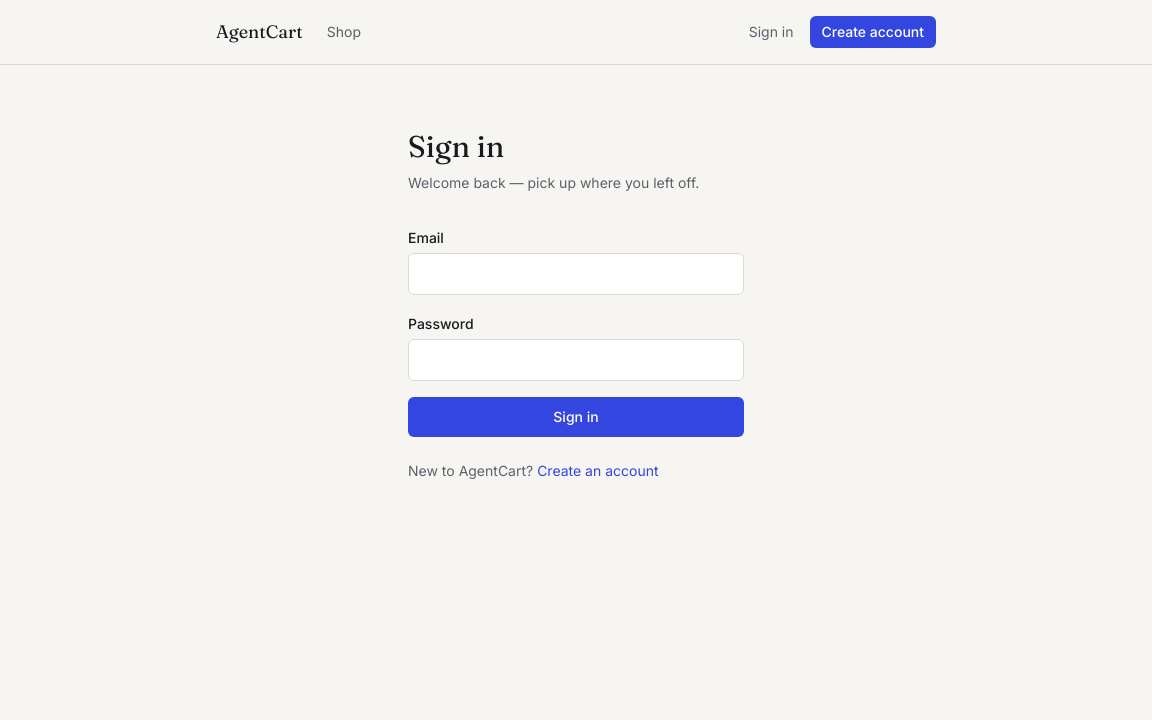
Test: login form › shows the server's error for wrong credentials and stays signed out
This screenshot has width=1152, height=720.
In the field labelled "Email": (576, 274) 408,253 -> 744,295, type "casey@example.com"
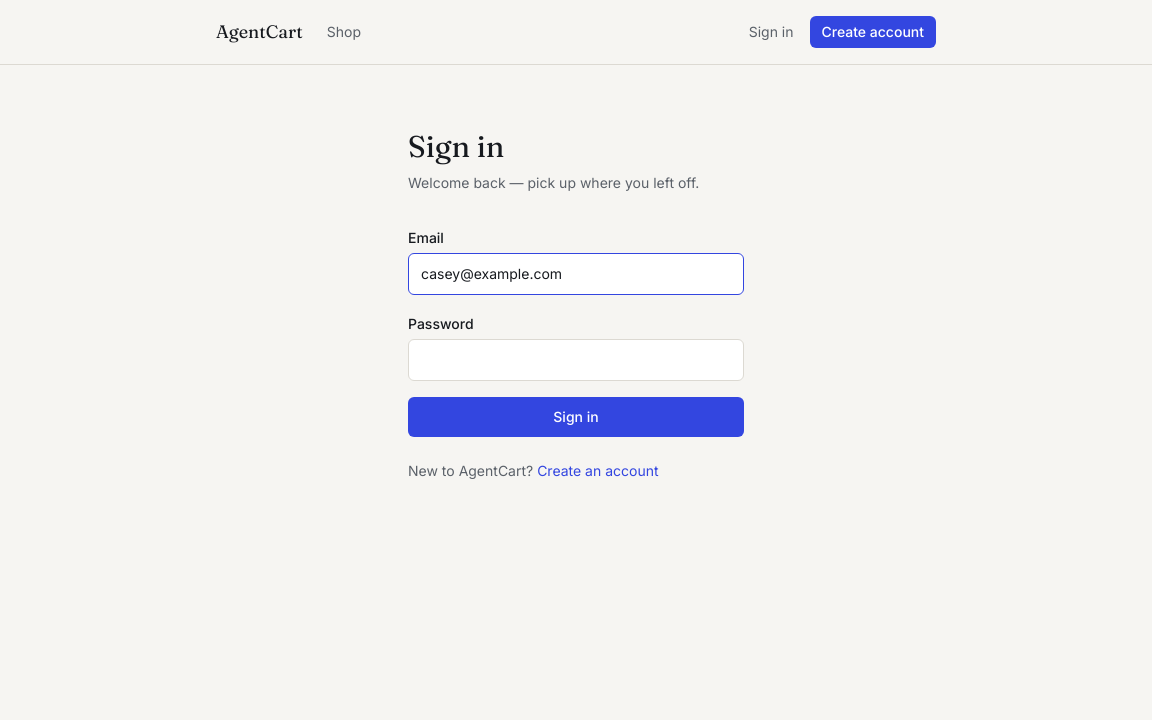
In the password field labelled "Password": (576, 360) 408,339 -> 744,381, type "wrong-password"
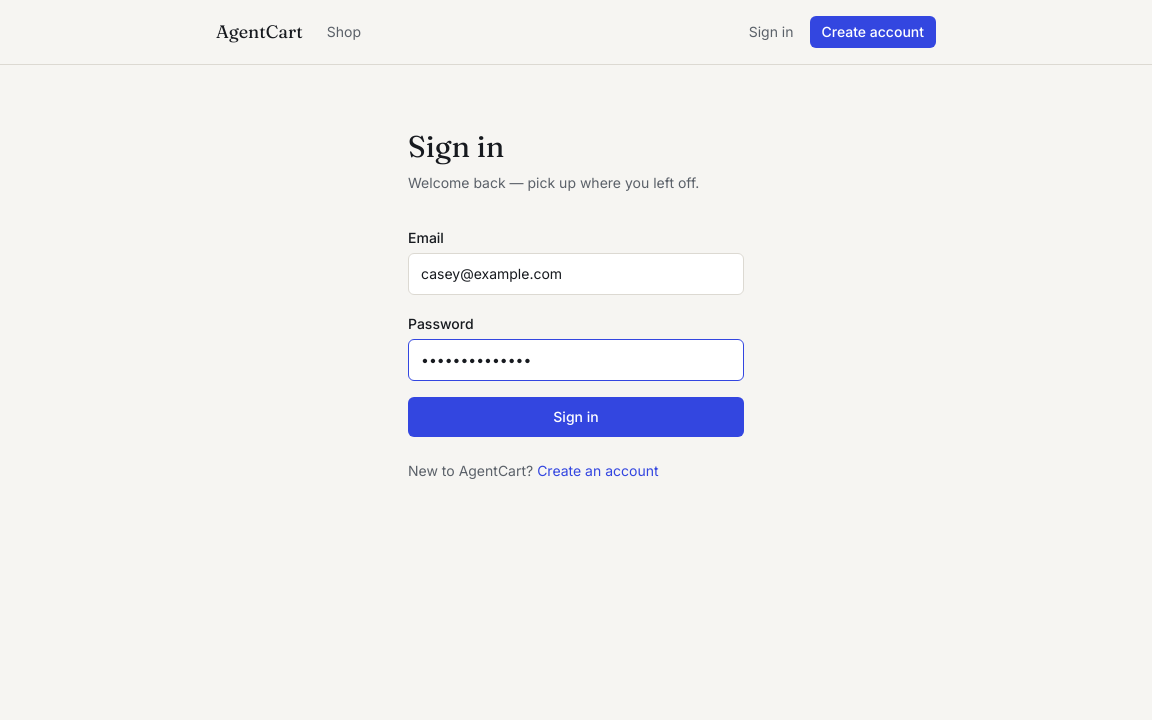
Click the button "Sign in": (576, 417) 408,397 -> 744,437
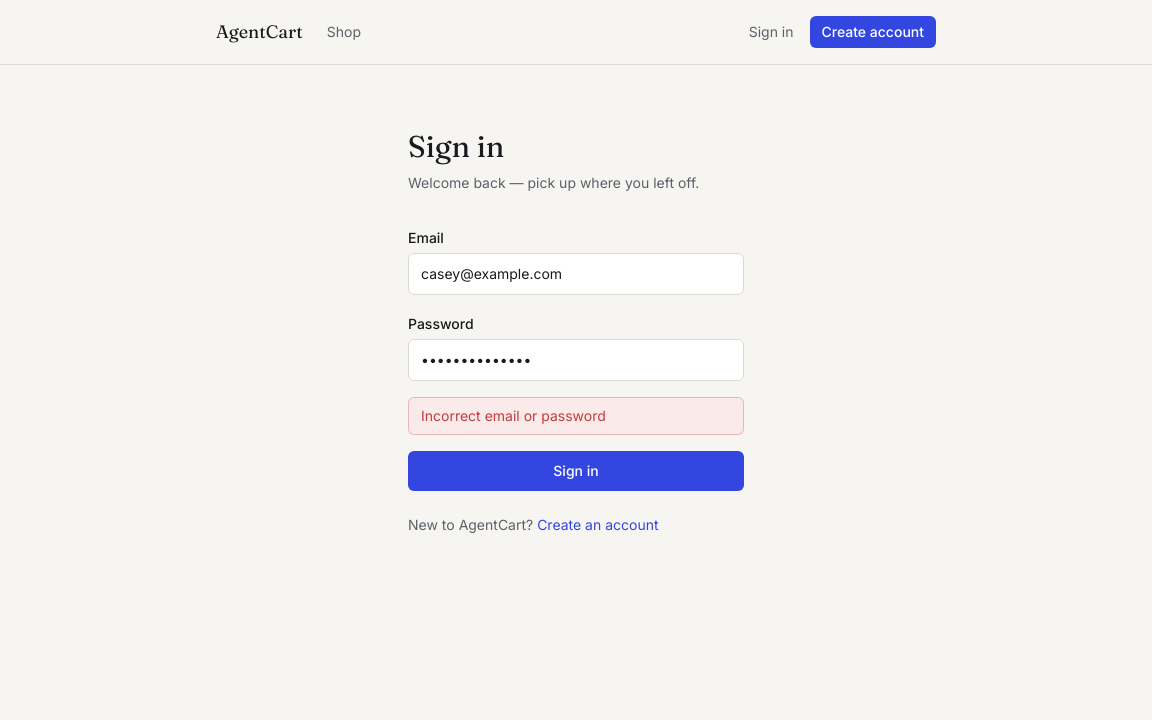
Expected: the message reads "Incorrect email or password", 421,407 -> 606,424
